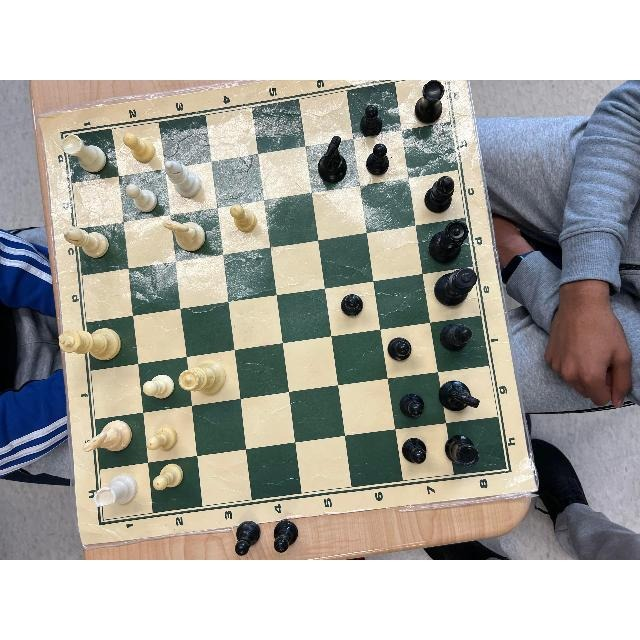black-bishop: (418, 170, 457, 213), (436, 318, 476, 356)
black-king: (431, 265, 481, 312)
black-knight: (312, 133, 352, 187), (437, 376, 483, 416)
black-pawn: (348, 98, 390, 140), (398, 434, 435, 468), (364, 140, 394, 181), (384, 332, 416, 365), (338, 287, 366, 323), (396, 392, 428, 420)
black-queen: (426, 217, 471, 267)
black-rook: (406, 80, 452, 129), (441, 432, 485, 472)
white-bishop: (60, 222, 116, 263), (160, 155, 206, 202)
white-king: (53, 320, 130, 366)
white-knight: (157, 214, 213, 258), (79, 415, 136, 458)
white-pawn: (121, 178, 162, 217), (117, 129, 159, 167), (145, 460, 185, 496), (144, 422, 182, 456), (137, 370, 176, 402), (226, 199, 258, 235)
white-queen: (175, 357, 229, 399)
white-rook: (55, 128, 113, 179), (85, 469, 141, 511)
